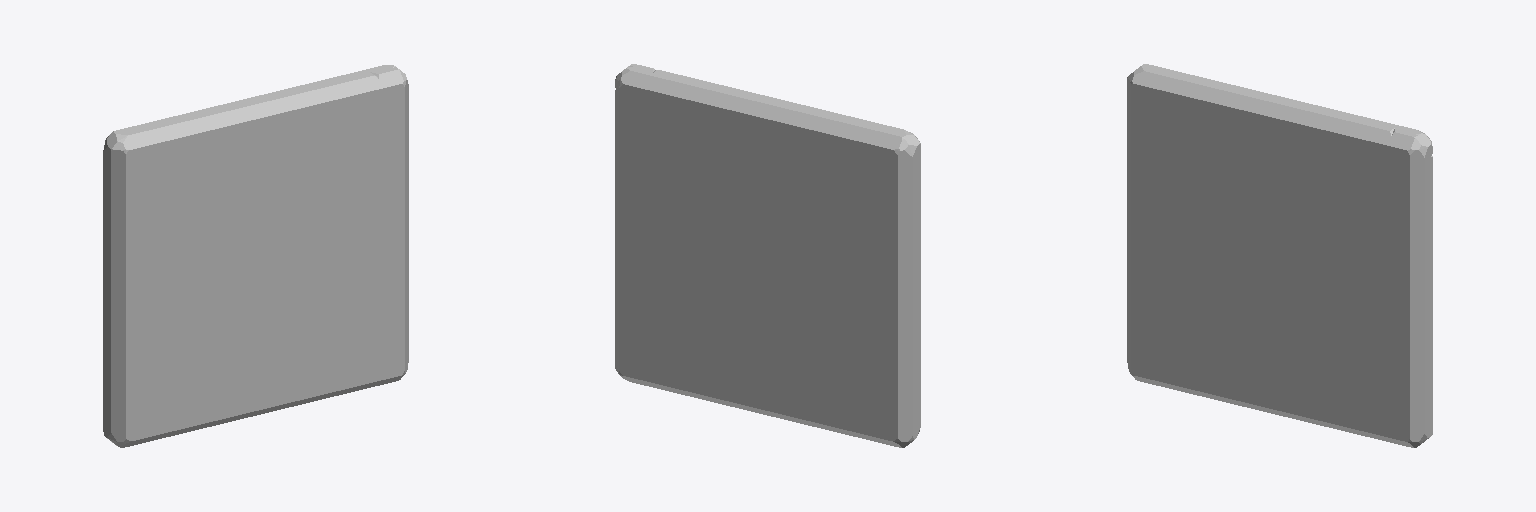
The model's file is Slab.obj.
3 views of the same model, side by side, from view 1: azimuth 30°, elevation 25°; view 2: azimuth 150°, elevation 25°; view 3: azimuth 330°, elevation 25° (orthographic).
Parts seen in each view (by area): view 1: Cube; view 2: Cube; view 3: Cube.
Boxes of the visible parts, x1=… form: Cube: x1=103, y1=65, x2=408, y2=447; Cube: x1=615, y1=64, x2=920, y2=447; Cube: x1=1127, y1=64, x2=1432, y2=447.
Bounding box in the file's own units: 2 × 2 × 0.2209.